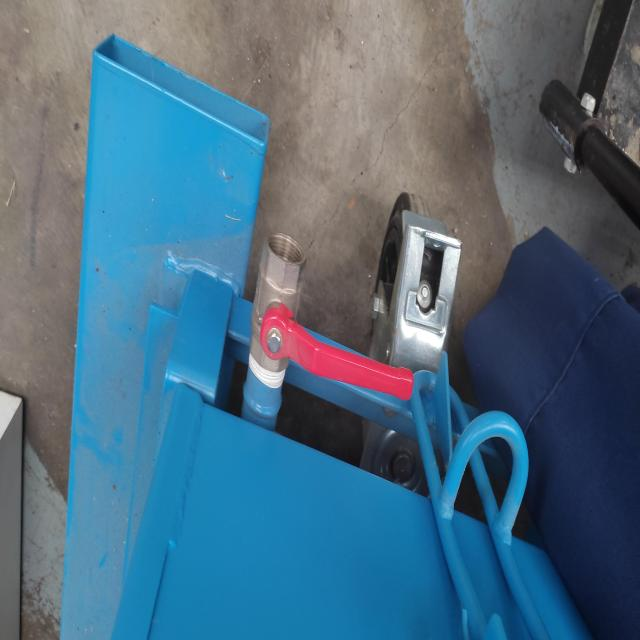closed_valve: (246, 223, 414, 405)
